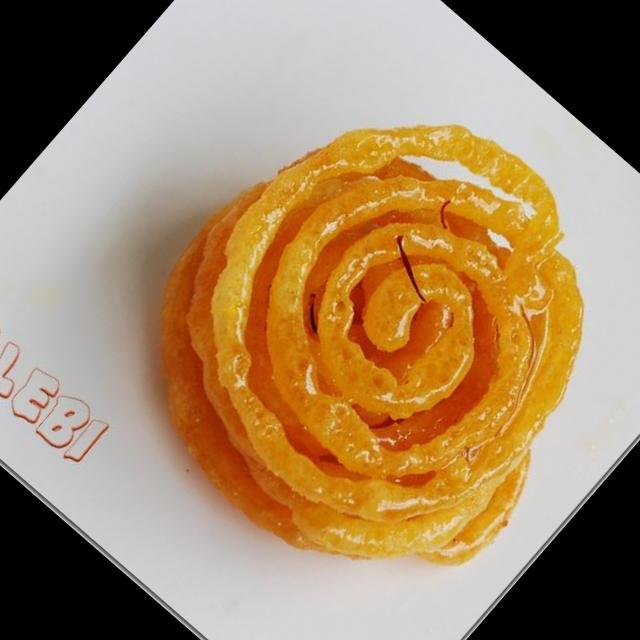jalebi: (78, 37, 640, 640)
